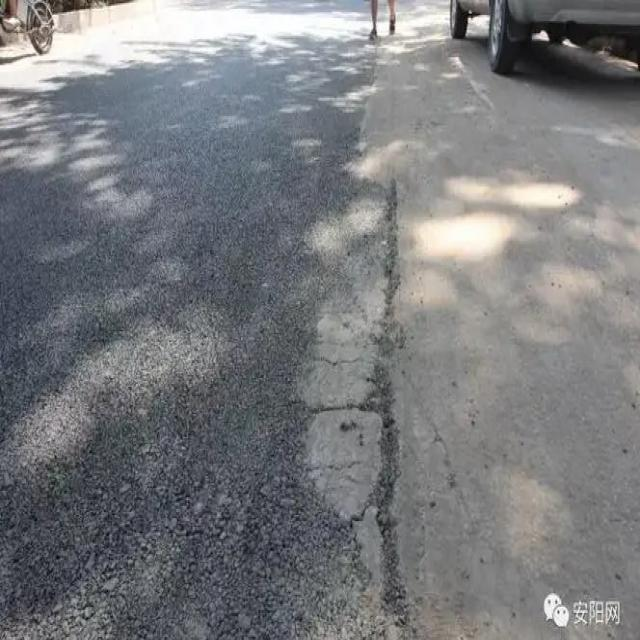Pothole: (306, 167, 418, 633)
